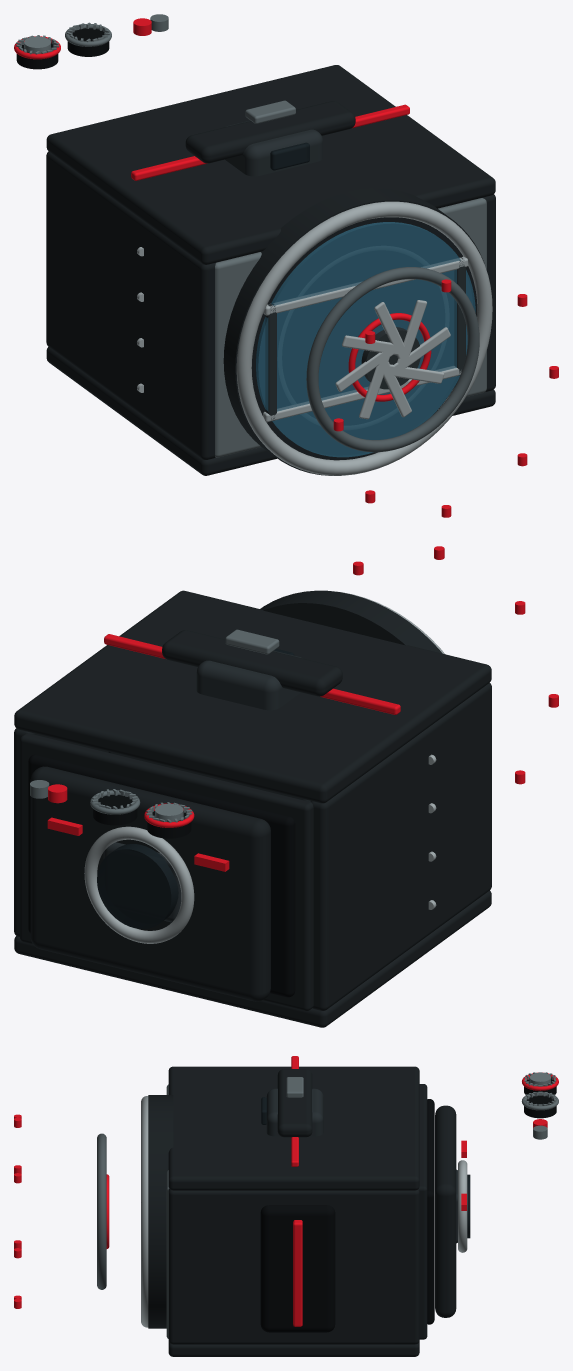
File: ufirst-camera-production.glb
3 renders of one model, top to bottom at view 1: azimuth 30°, elevation 25°; view 2: azimuth 150°, elevation 25°; view 3: azimuth 270°, elevation 25°, orthographic. The views are drawn at different scales.
Visible parts, largest first — view 1: TopPlate, LeftBodyRail, FrontLens, LensHousingFrontEdge, LensHousing, Aperture, FrontChassisPlate, TopCarryHandle, BottomPlate, ViewfinderPrism, Shutter, RightBodyRail (+16 smaller); view 2: TopPlate, LeftBodyRail, RearModule, RearChassisPlate, RearGripPanel, BottomPlate, ViewfinderGlass, TopCarryHandle, LensHousing, ViewfinderRing, ViewfinderPrism, UFirstAccentRail (+3 smaller); view 3: RightBodyRail, TopPlate, Grip, LensHousing, RearModule, BottomPlate, RearChassisPlate, TopCarryHandle, LensHousingFrontEdge, RearGripPanel, Aperture, ViewfinderPrism (+4 smaller).
Boxes of the visible parts, x1=… form: TopPlate: x1=46, y1=65, x2=495, y2=264; LeftBodyRail: x1=46, y1=151, x2=215, y2=459; FrontLens: x1=256, y1=222, x2=475, y2=457; LensHousingFrontEdge: x1=236, y1=201, x2=492, y2=475; LensHousing: x1=223, y1=188, x2=487, y2=475; Aperture: x1=306, y1=267, x2=479, y2=452; FrontChassisPlate: x1=215, y1=198, x2=486, y2=457; TopCarryHandle: x1=185, y1=101, x2=355, y2=163; BottomPlate: x1=46, y1=347, x2=495, y2=475; ViewfinderPrism: x1=223, y1=120, x2=322, y2=176; Shutter: x1=263, y1=256, x2=467, y2=315; RightBodyRail: x1=482, y1=194, x2=495, y2=391; TopPlate: x1=14, y1=590, x2=491, y2=803; LeftBodyRail: x1=310, y1=682, x2=491, y2=1010; RearModule: x1=30, y1=766, x2=270, y2=1001; RearChassisPlate: x1=20, y1=733, x2=313, y2=1010; RearGripPanel: x1=28, y1=754, x2=295, y2=997; BottomPlate: x1=14, y1=890, x2=491, y2=1027; ViewfinderGlass: x1=97, y1=844, x2=178, y2=928; TopCarryHandle: x1=162, y1=630, x2=342, y2=696; LensHousing: x1=260, y1=590, x2=442, y2=653; ViewfinderRing: x1=84, y1=826, x2=194, y2=943; ViewfinderPrism: x1=196, y1=650, x2=302, y2=710; UFirstAccentRail: x1=104, y1=634, x2=400, y2=714; RightBodyRail: x1=168, y1=1188, x2=419, y2=1344; TopPlate: x1=168, y1=1066, x2=419, y2=1190; Grip: x1=260, y1=1205, x2=335, y2=1332; LensHousing: x1=148, y1=1095, x2=173, y2=1328; RearModule: x1=435, y1=1105, x2=456, y2=1317; BottomPlate: x1=168, y1=1341, x2=419, y2=1356; RearChassisPlate: x1=419, y1=1084, x2=427, y2=1339; TopCarryHandle: x1=277, y1=1069, x2=312, y2=1137; LensHousingFrontEdge: x1=141, y1=1096, x2=148, y2=1327; RearGripPanel: x1=427, y1=1099, x2=434, y2=1324; Aperture: x1=97, y1=1133, x2=106, y2=1289; ViewfinderPrism: x1=266, y1=1088, x2=323, y2=1136.
Bounding box in the file's own units: 6 × 5.33 × 11.28.
